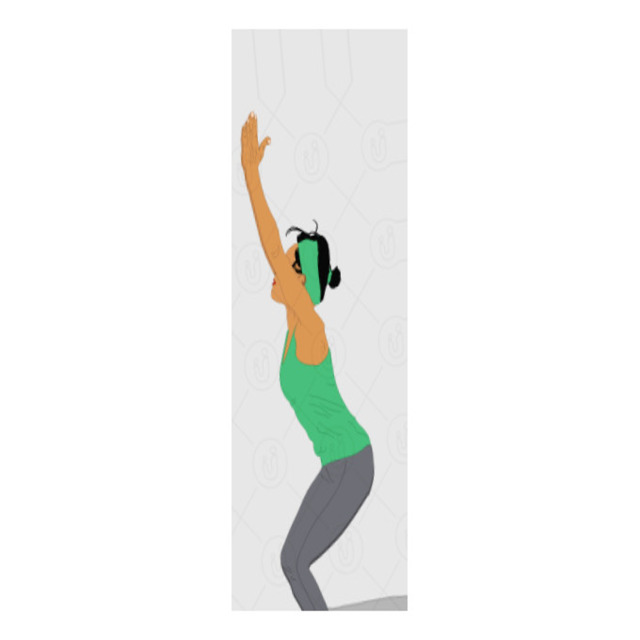Squat_Pose: (238, 110, 375, 609)
